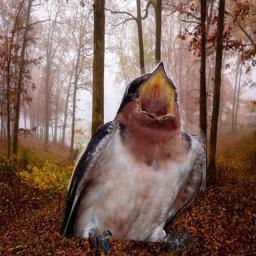Swallow: (60, 60, 206, 254)
